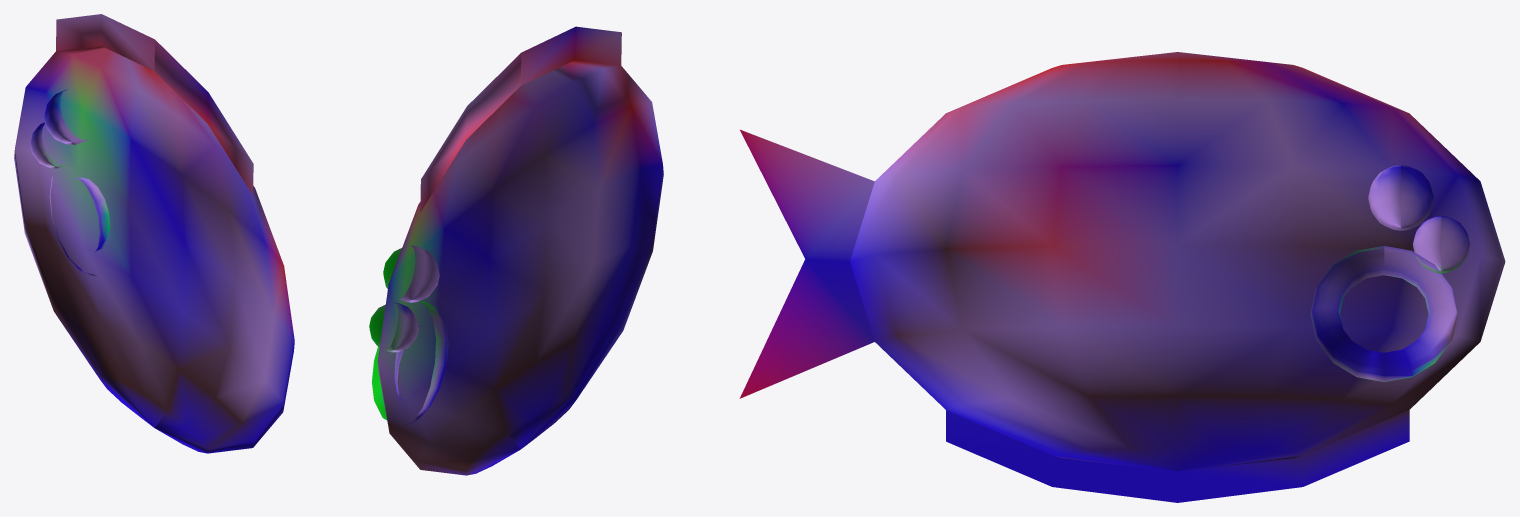
Rendered from gigaflounder.glb.
The picture shows the model from 3 angles, left to right: view 1: azimuth 30°, elevation 25°; view 2: azimuth 150°, elevation 25°; view 3: azimuth 270°, elevation 25°; orthographic projection. The views are drawn at different scales.
Visible parts, largest first — view 1: Gigaflounder; view 2: Gigaflounder; view 3: Gigaflounder.
Part boxes in pixels (bbox=[...]): Gigaflounder: bbox=[14, 14, 294, 453]; Gigaflounder: bbox=[369, 26, 663, 475]; Gigaflounder: bbox=[739, 52, 1505, 502].
Bounding box in the file's own units: 0.5113 × 1.56 × 2.21.
